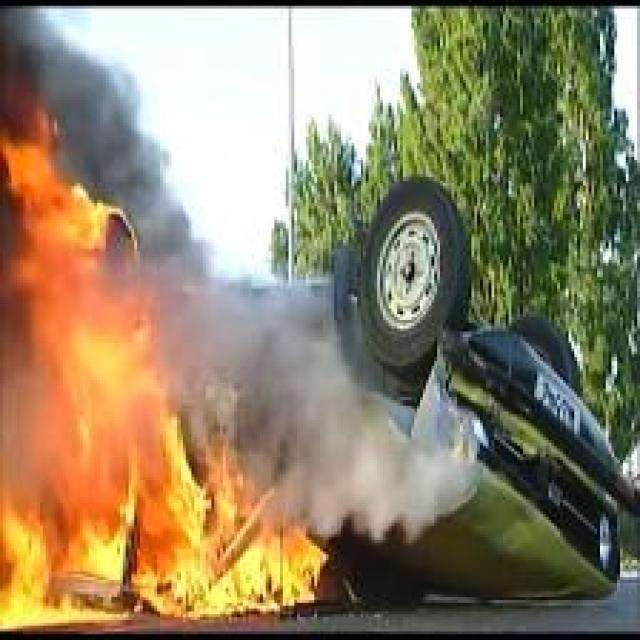Fire: (0, 107, 331, 630)
